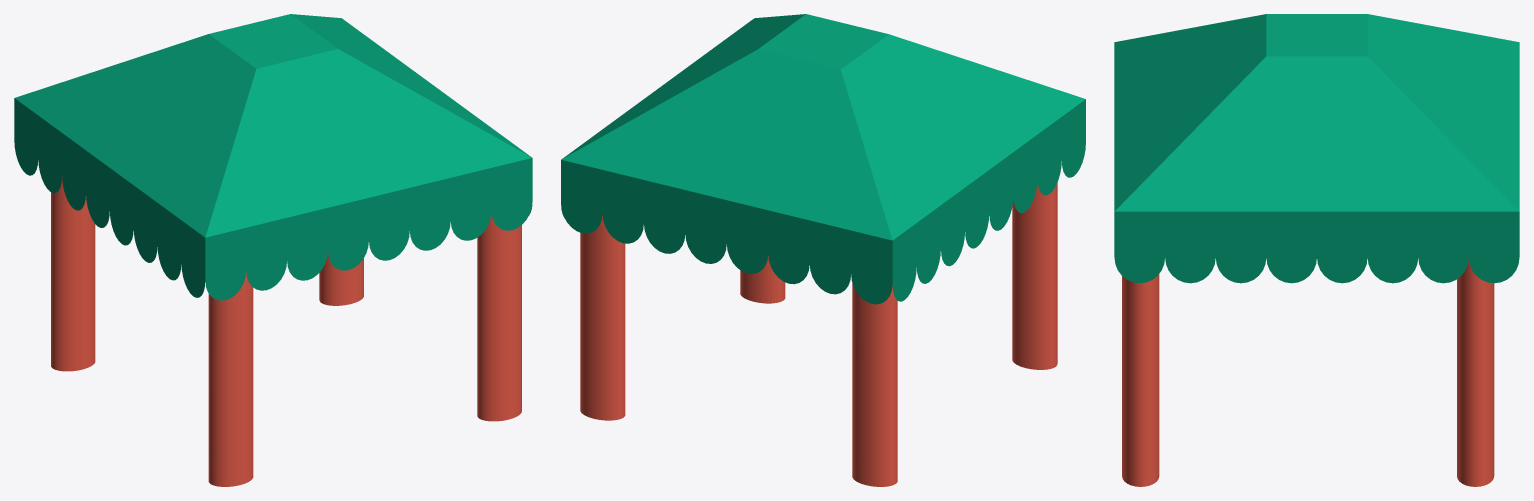
Rendered from canopy.glb.
3 renders of one model, left to right at view 1: azimuth 30°, elevation 25°; view 2: azimuth 150°, elevation 25°; view 3: azimuth 270°, elevation 25°, orthographic. The views are drawn at different scales.
Visible parts, largest first — view 1: mergedBlocks(Clone); view 2: mergedBlocks(Clone); view 3: mergedBlocks(Clone).
Boxes of the visible parts, x1=… form: mergedBlocks(Clone): x1=14, y1=14, x2=532, y2=486; mergedBlocks(Clone): x1=561, y1=14, x2=1085, y2=486; mergedBlocks(Clone): x1=1114, y1=14, x2=1519, y2=486.
Bounding box in the file's own units: 1.58 × 1.6 × 1.6.
